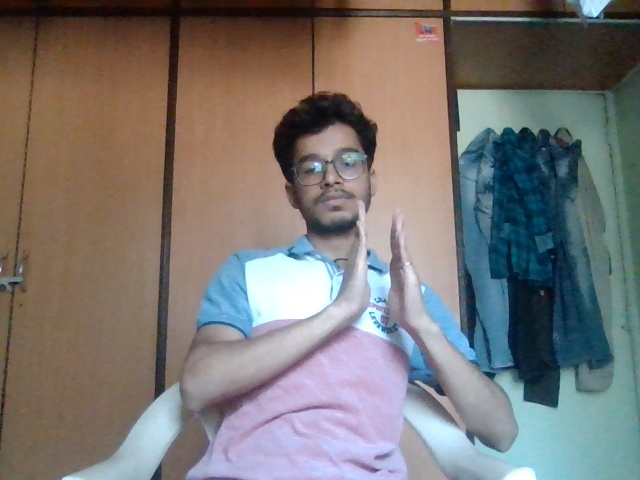morning: (331, 192, 443, 368)
